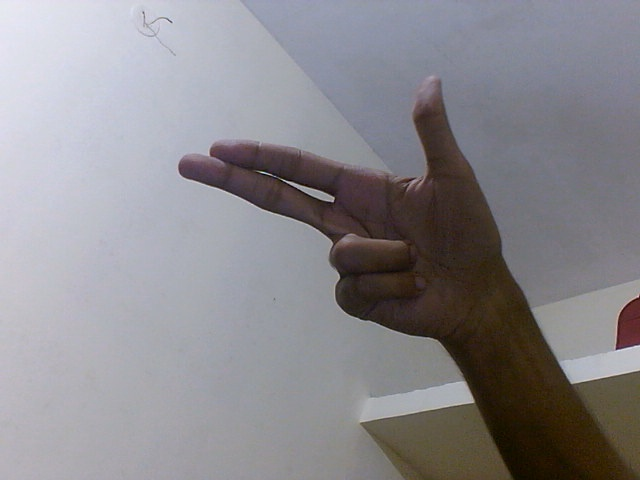hand: (176, 71, 511, 349)
